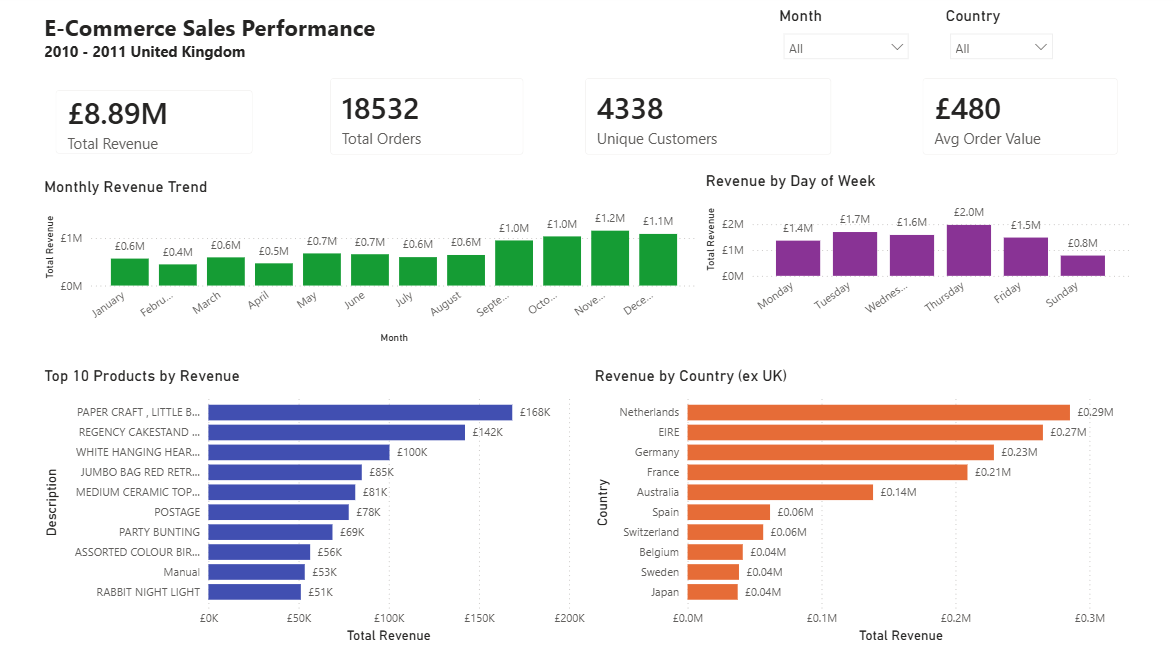

Layout of this report page (visuals, bound fields, positions):
{"tool":"powerbi","page":{"name":"Page 1","canvas":[1280,720],"ordinal":0},"visuals":[{"type":"cardVisual","fields":{"Data":["clean_ecommerce.Total Revenue"]},"box":[47.2,86.9,247.6,103.9],"z":0},{"type":"clusteredColumnChart","title":"Monthly Revenue Trend","fields":{"Category":["clean_ecommerce.YearMonth.Variation.Date Hierarchy.Month","clean_ecommerce.YearMonth.Variation.Date Hierarchy.Day"],"Y":["clean_ecommerce.Total Revenue"]},"box":[47.2,198.4,714.3,183.3],"z":1000},{"type":"clusteredBarChart","title":"Top 10 Products by Revenue","fields":{"Category":["clean_ecommerce.Description"],"Y":["clean_ecommerce.Total Revenue"]},"box":[47.2,402.5,593.4,302.4],"z":2000},{"type":"clusteredColumnChart","title":"Revenue by Day of Week","fields":{"Category":["clean_ecommerce.DayOfWeek"],"Y":["clean_ecommerce.Total Revenue"]},"box":[761.6,192.8,466.8,166.3],"z":3000},{"type":"clusteredBarChart","title":"Revenue by Country (ex UK)","fields":{"Category":["clean_ecommerce.Country"],"Y":["clean_ecommerce.Total Revenue"]},"box":[640.6,402.5,587.7,302.4],"z":4000},{"type":"slicer","title":"Month","fields":{"Values":["clean_ecommerce.MonthName"]},"box":[841,15.1,155,58.6],"z":5000},{"type":"slicer","title":"Country","fields":{"Values":["clean_ecommerce.Country"]},"box":[1020.5,15.1,130.4,58.6],"z":6000},{"type":"textbox","box":[47.2,15.1,738.9,71.8],"z":7000},{"type":"cardVisual","fields":{"Data":["clean_ecommerce.Total Orders"]},"box":[343.9,73.7,243.8,117.2],"z":7001},{"type":"cardVisual","fields":{"Data":["clean_ecommerce.Unique Customers"]},"box":[618,73.7,300.5,117.2],"z":7002},{"type":"cardVisual","fields":{"Data":["clean_ecommerce.Avg Order Value"]},"box":[982.7,73.7,245.7,117.2],"z":7003}]}

Visuals, with their boxes in screenshot pixels (x1, y1, x2, y2), scaled from the page's 1280x720 canvas onto the 1174x660 screenshot:
cardVisual - clean_ecommerce.Total Revenue: 43 80 270 175
"Monthly Revenue Trend" clusteredColumnChart: 43 182 698 350
"Top 10 Products by Revenue" clusteredBarChart: 43 369 588 646
"Revenue by Day of Week" clusteredColumnChart: 699 177 1127 329
"Revenue by Country (ex UK)" clusteredBarChart: 588 369 1127 646
"Month" slicer: 771 14 914 68
"Country" slicer: 936 14 1056 68
textbox: 43 14 721 80
cardVisual - clean_ecommerce.Total Orders: 315 68 539 175
cardVisual - clean_ecommerce.Unique Customers: 567 68 842 175
cardVisual - clean_ecommerce.Avg Order Value: 901 68 1127 175
